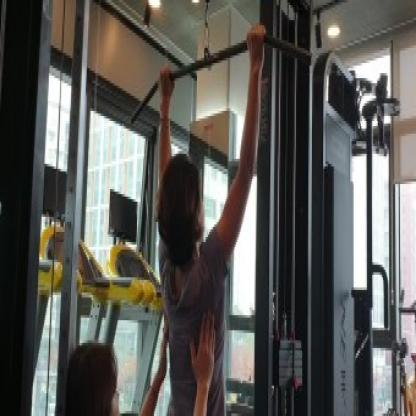Lat Pull Down: (121, 0, 315, 416)
